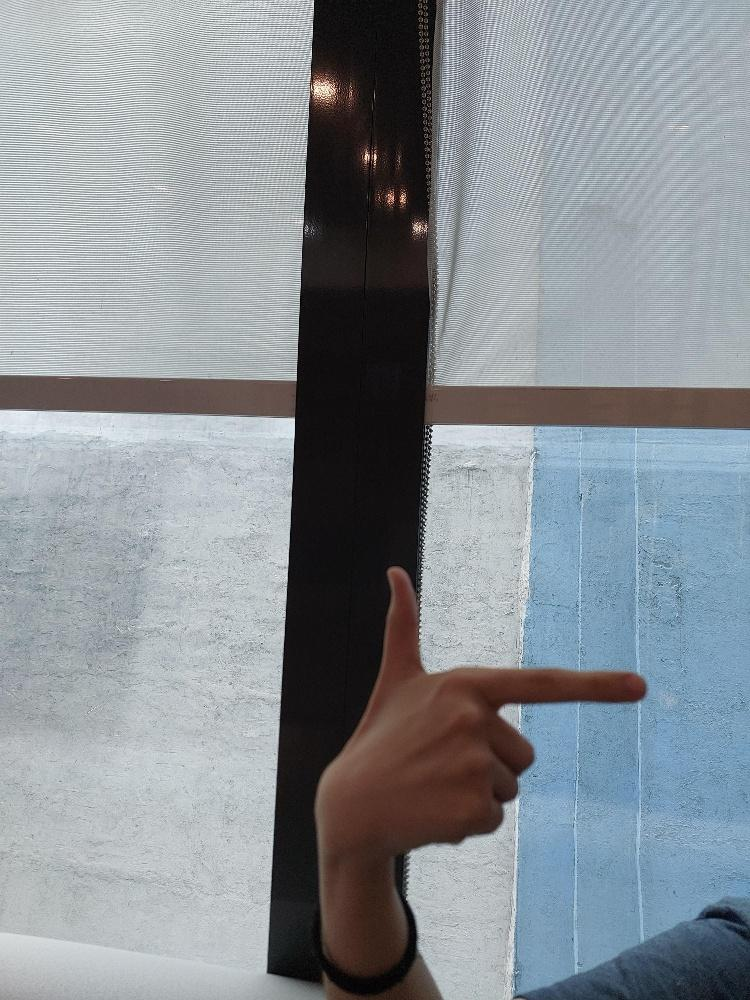g: (330, 563, 648, 848)
